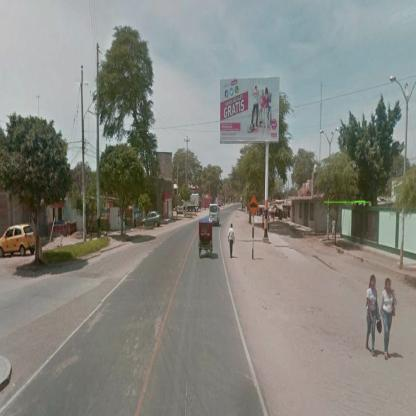Peaton: (381, 278, 395, 362), (367, 276, 378, 356), (229, 225, 236, 259)
Pista: (1, 204, 268, 411)
Vehiculo: (1, 225, 37, 259), (200, 217, 213, 260), (142, 212, 162, 230), (210, 205, 221, 227)
